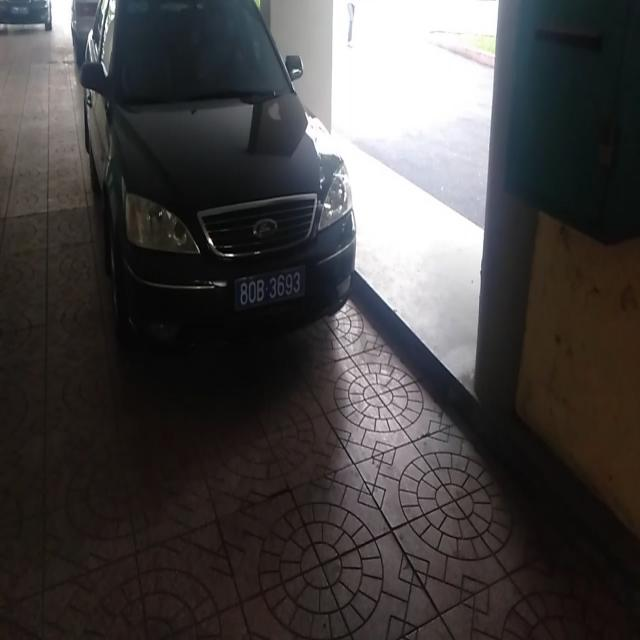bien_xanh: (234, 264, 308, 308)
